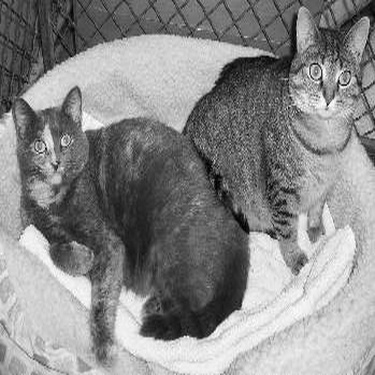cat: (9, 81, 248, 334), (189, 11, 369, 271)
